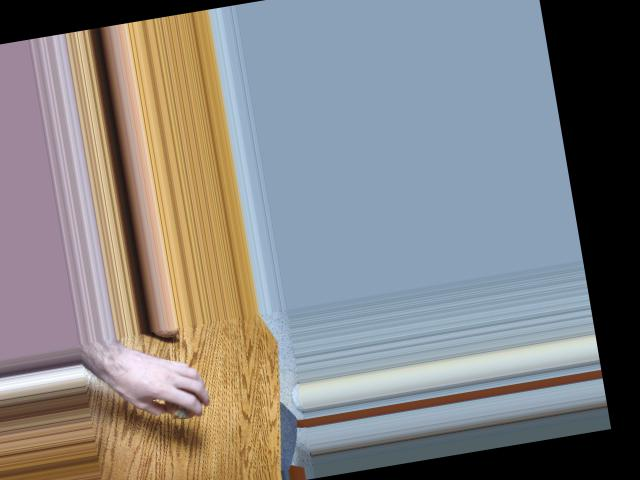onion: (158, 380, 208, 423)
